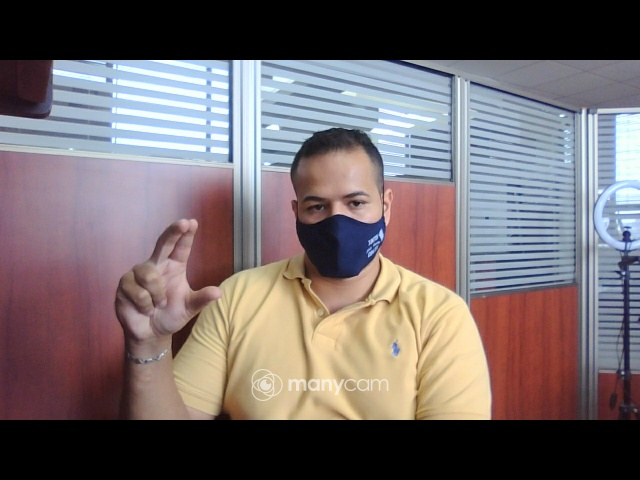No: (96, 218, 226, 355)
